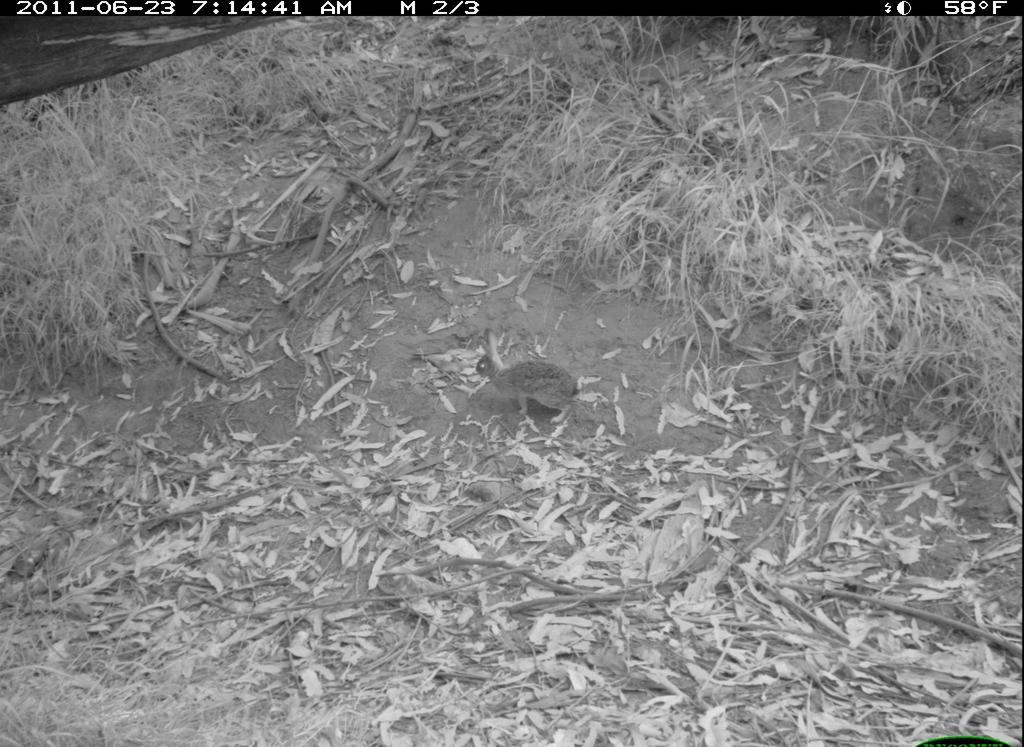rabbit: (464, 318, 585, 423)
